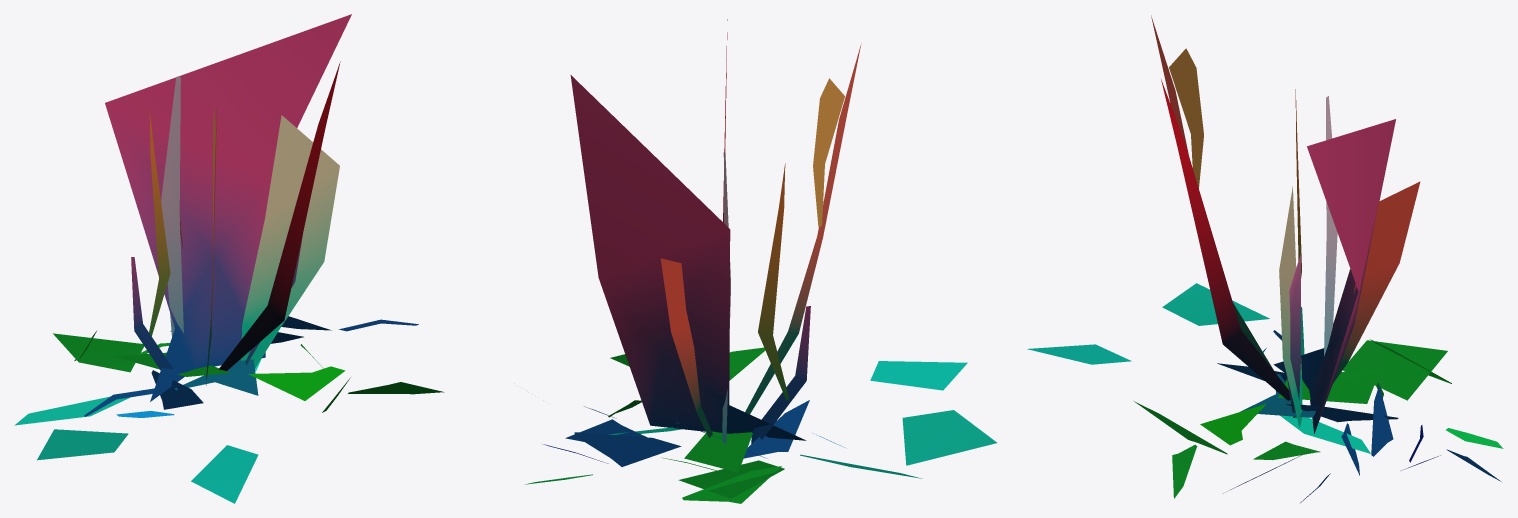
File: Dead_Shrubs_vdknafgha_Low_vdknafgha_VarD_LOD1.fbx
3 renders of one model, left to right at view 1: azimuth 30°, elevation 25°; view 2: azimuth 150°, elevation 25°; view 3: azimuth 270°, elevation 25°, orthographic.
Parts seen in each view (by area): view 1: _31fg_VarD_LOD2; view 2: _31fg_VarD_LOD2; view 3: _31fg_VarD_LOD2.
Boxes of the visible parts, x1=… form: _31fg_VarD_LOD2: x1=14, y1=14, x2=444, y2=503; _31fg_VarD_LOD2: x1=525, y1=19, x2=996, y2=503; _31fg_VarD_LOD2: x1=1027, y1=15, x2=1503, y2=502.
Bounding box in the file's own units: 42.54 × 34.55 × 40.17.
